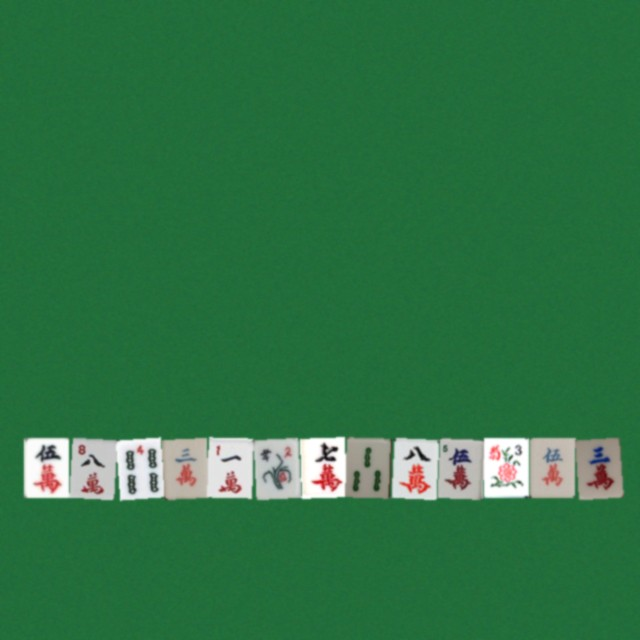tile: (23, 437, 68, 497), (69, 437, 114, 497), (115, 437, 160, 497), (161, 437, 206, 497), (207, 437, 252, 497), (253, 437, 298, 497), (299, 437, 344, 497), (345, 437, 390, 497), (391, 437, 436, 497), (437, 437, 482, 497), (483, 437, 528, 497), (529, 437, 574, 497), (575, 437, 620, 497)
